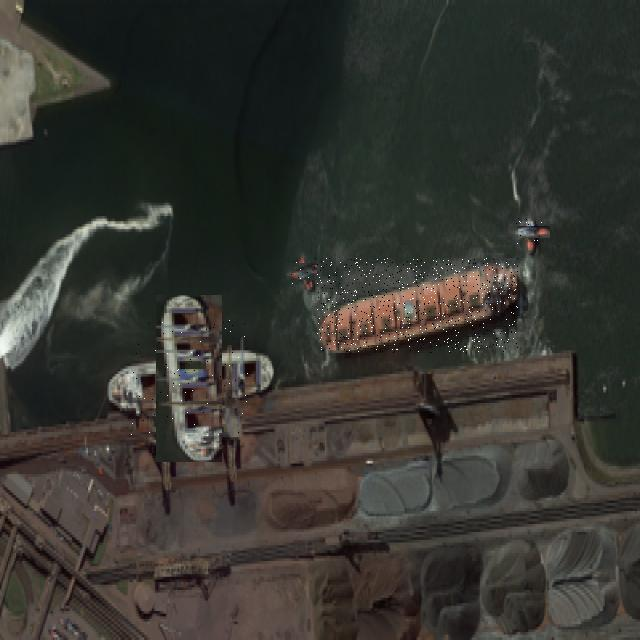boat: (317, 258, 518, 353), (131, 320, 248, 436), (516, 218, 543, 246), (291, 258, 319, 285)
